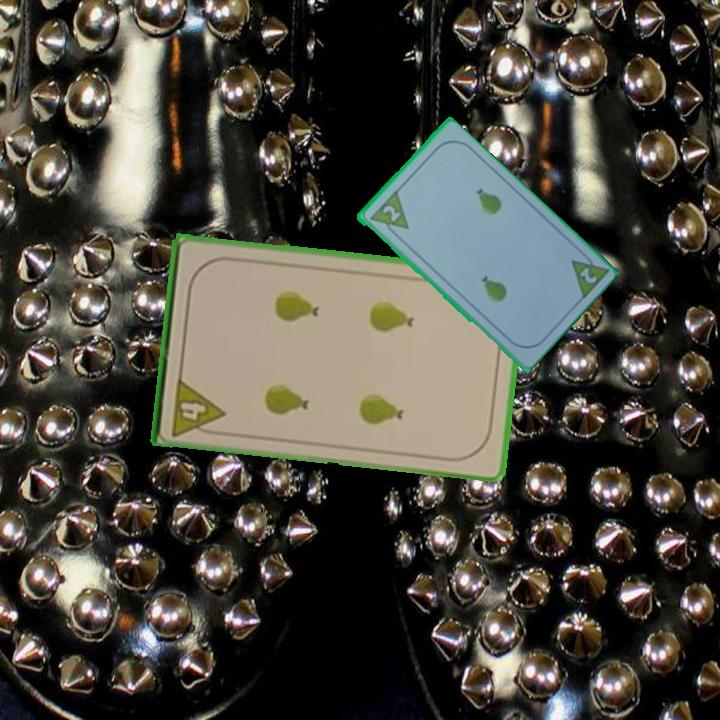2p: (567, 246, 610, 303), (366, 188, 412, 241)
4p: (168, 374, 227, 439)
